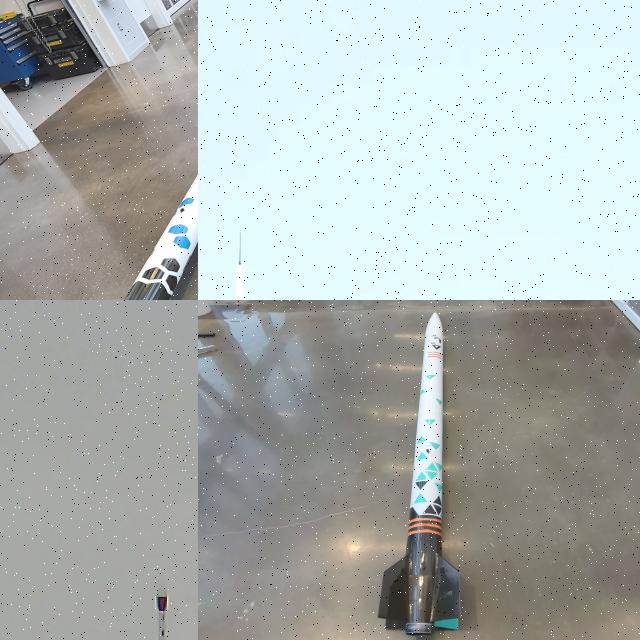Rocket: (378, 312, 461, 637), (123, 173, 198, 300), (145, 579, 177, 640), (238, 229, 243, 265)
